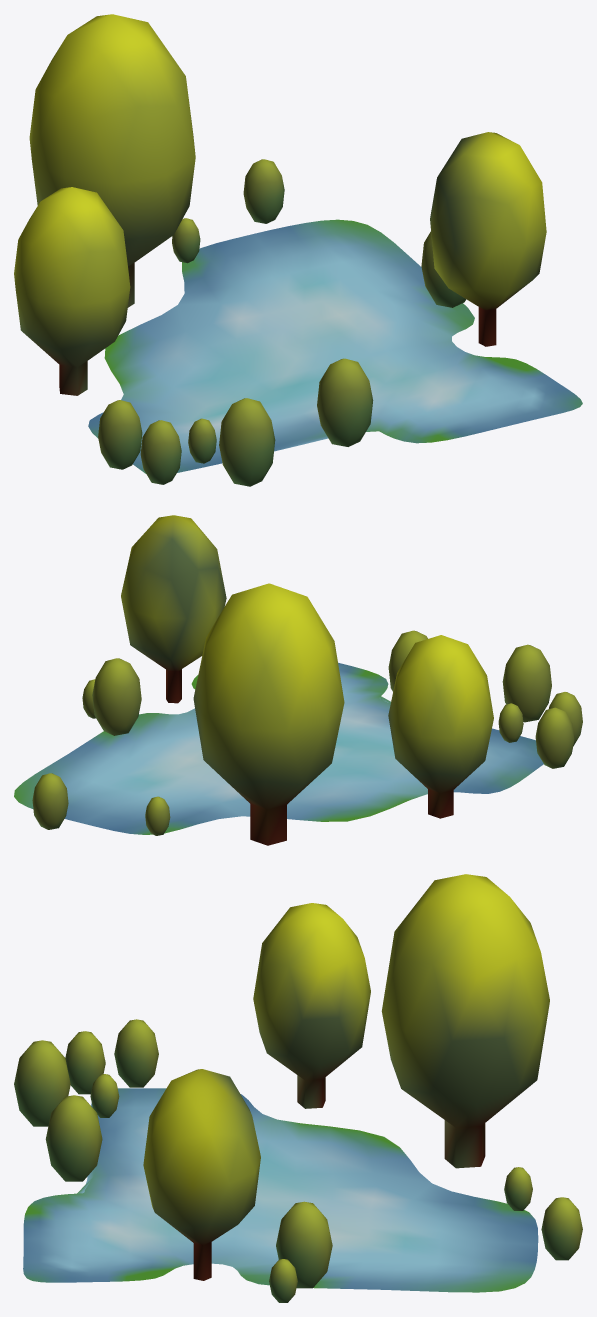
File: SM_Forest3.fbx
The picture shows the model from 3 angles, top to bottom: view 1: azimuth 30°, elevation 25°; view 2: azimuth 150°, elevation 25°; view 3: azimuth 270°, elevation 25°; orthographic projection. The views are drawn at different scales.
Parts seen in each view (by area): view 1: Forester, SM_Pond; view 2: Forester, SM_Pond; view 3: Forester, SM_Pond.
Boxes of the visible parts, left/top/right/bottom form: Forester: left=14, top=14, right=546, bottom=486; SM_Pond: left=88, top=219, right=582, bottom=473; Forester: left=32, top=515, right=582, bottom=845; SM_Pond: left=14, top=662, right=543, bottom=834; Forester: left=14, top=874, right=582, bottom=1302; SM_Pond: left=23, top=1088, right=538, bottom=1292.
Size of the model in its own units: 644 by 371 by 668.
